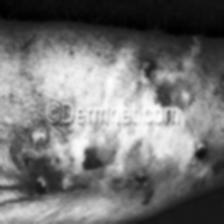Non-Cancerous Skin Condition: (3, 138, 221, 188), (118, 56, 188, 99), (13, 84, 47, 160), (208, 45, 224, 109)
